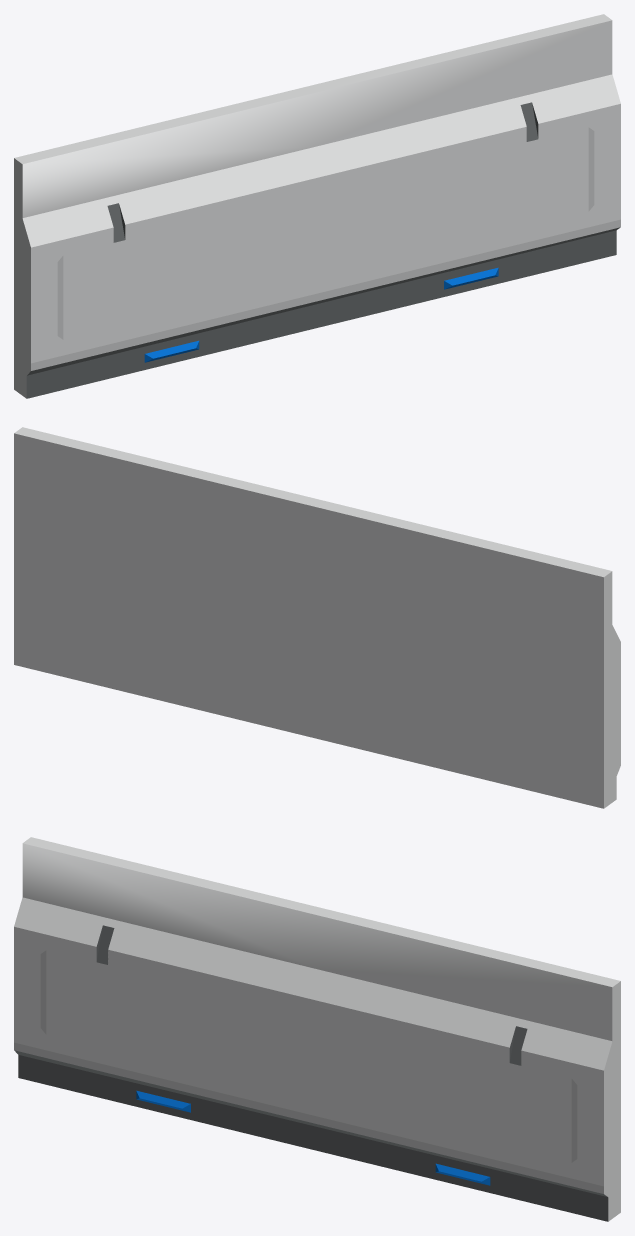
The model's file is Wall_type_A_040.fbx.
The picture shows the model from 3 angles, top to bottom: view 1: azimuth 30°, elevation 25°; view 2: azimuth 150°, elevation 25°; view 3: azimuth 330°, elevation 25°; orthographic projection.
Parts seen in each view (by area): view 1: Wall_type_A_040; view 2: Wall_type_A_040; view 3: Wall_type_A_040.
Part boxes in pixels (box(x1,y1,x2,y2)): Wall_type_A_040: box(14, 14, 620, 398); Wall_type_A_040: box(14, 427, 620, 808); Wall_type_A_040: box(14, 837, 620, 1221).
Size of the model in its own units: 400 by 20 by 150.
